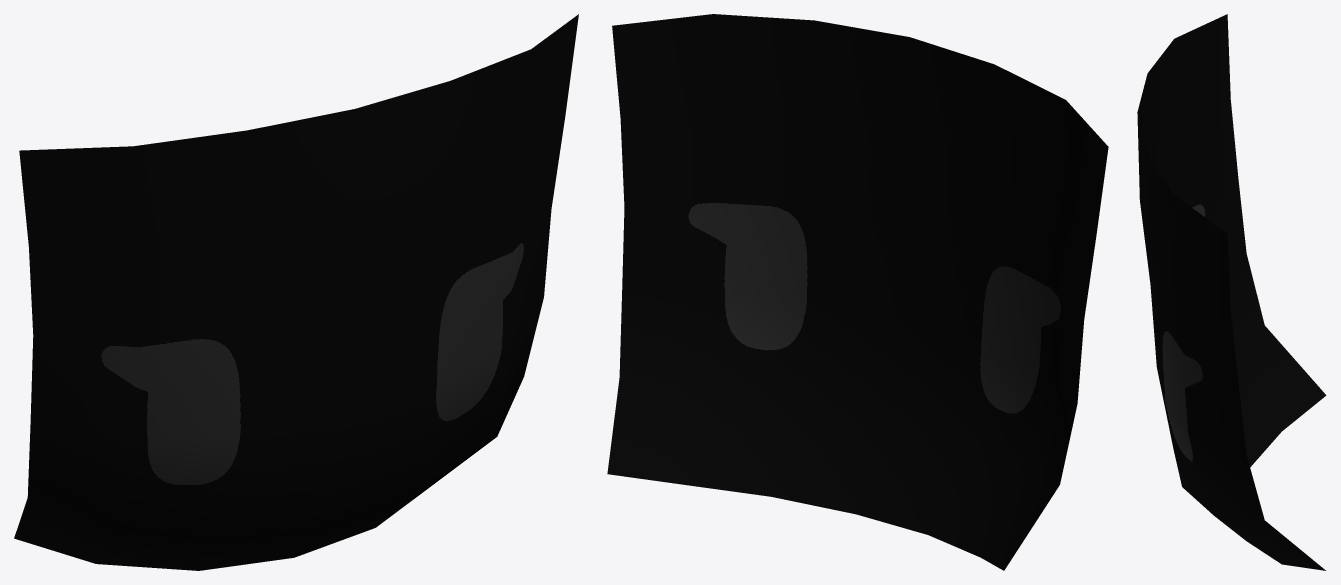
Rendered from SM_ATB_FaceCard.FBX.
The picture shows the model from 3 angles, left to right: view 1: azimuth 30°, elevation 25°; view 2: azimuth 150°, elevation 25°; view 3: azimuth 270°, elevation 25°; orthographic projection. The views are drawn at different scales.
Visible parts, largest first — view 1: SM_ATB_FaceCard; view 2: SM_ATB_FaceCard; view 3: SM_ATB_FaceCard.
Part boxes in pixels (x1,y1,x2,y2): SM_ATB_FaceCard: (14,14,578,570); SM_ATB_FaceCard: (607,14,1108,570); SM_ATB_FaceCard: (1137,14,1326,570).
Size of what is drawn, in the model's own units: 68 by 24.73 by 57.28.
